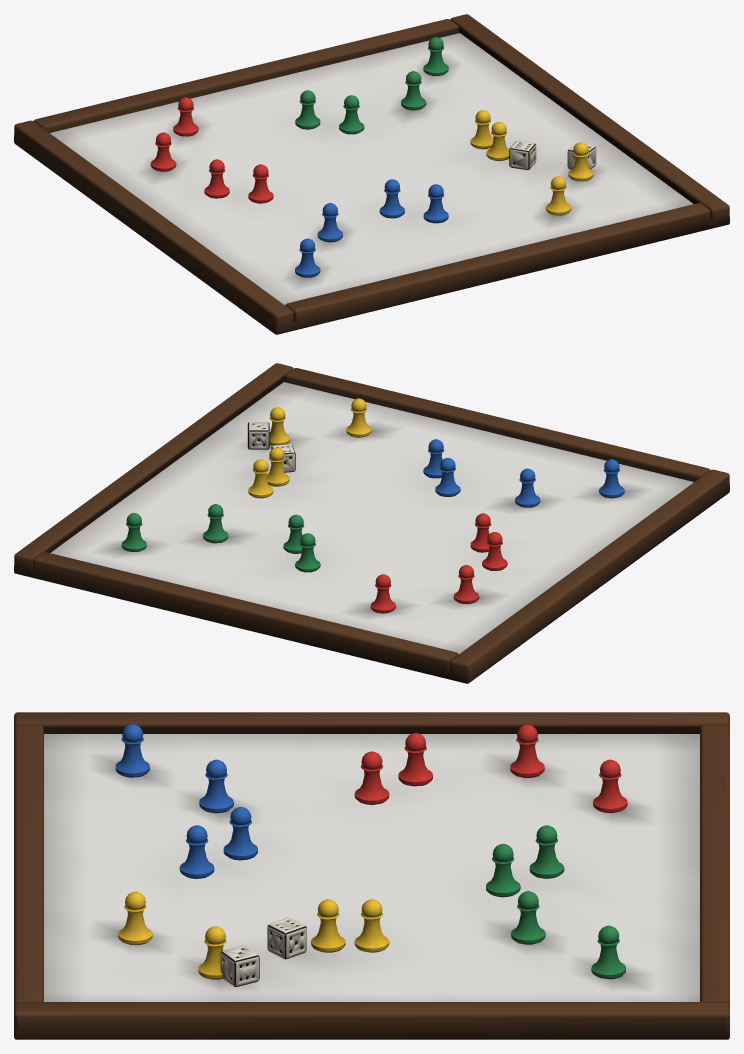
The model's file is set-ludo.glb.
3 renders of one model, top to bottom at view 1: azimuth 30°, elevation 25°; view 2: azimuth 150°, elevation 25°; view 3: azimuth 270°, elevation 25°, orthographic. The views are drawn at different scales.
Visible parts, largest first — view 1: Field, Board, Tokens_Red, Tokens_Blue, Tokens_Green, Tokens_Yellow, Dice; view 2: Field, Board, Tokens_Yellow, Tokens_Green, Tokens_Blue, Tokens_Red, Dice; view 3: Field, Board, Tokens_Blue, Tokens_Green, Tokens_Red, Tokens_Yellow, Dice.
Part boxes in pixels (x1,y1,x2,y2): Field: (50, 33, 693, 305); Board: (14, 14, 729, 334); Tokens_Red: (150, 97, 273, 203); Tokens_Blue: (295, 179, 448, 277); Tokens_Green: (295, 37, 448, 134); Tokens_Yellow: (470, 110, 593, 215); Dice: (509, 140, 596, 170); Field: (50, 382, 693, 654); Board: (14, 363, 729, 683); Tokens_Yellow: (248, 398, 371, 498); Tokens_Green: (121, 504, 320, 572); Tokens_Blue: (423, 439, 624, 507); Tokens_Red: (370, 513, 507, 613); Dice: (247, 422, 295, 472); Field: (44, 734, 699, 1001); Board: (14, 712, 729, 1039); Tokens_Blue: (115, 724, 257, 878); Tokens_Green: (486, 825, 625, 979); Tokens_Red: (354, 724, 627, 812); Tokens_Yellow: (118, 891, 389, 979); Dice: (220, 917, 306, 986).
Bounding box in the file's own units: 0.3799 × 0.037 × 0.3799.
Materials: 3 (2 with a texture image).
